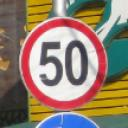speed_limit_50: (19, 16, 104, 108)
